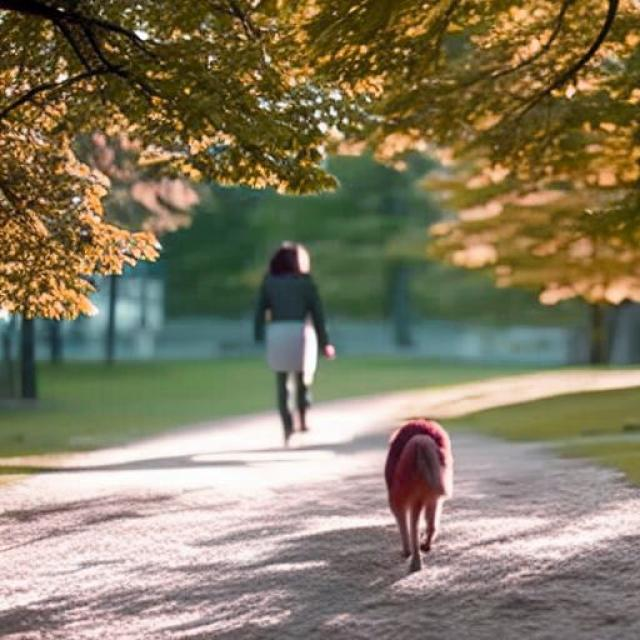Unleashed_Dog: (263, 313, 453, 575)
